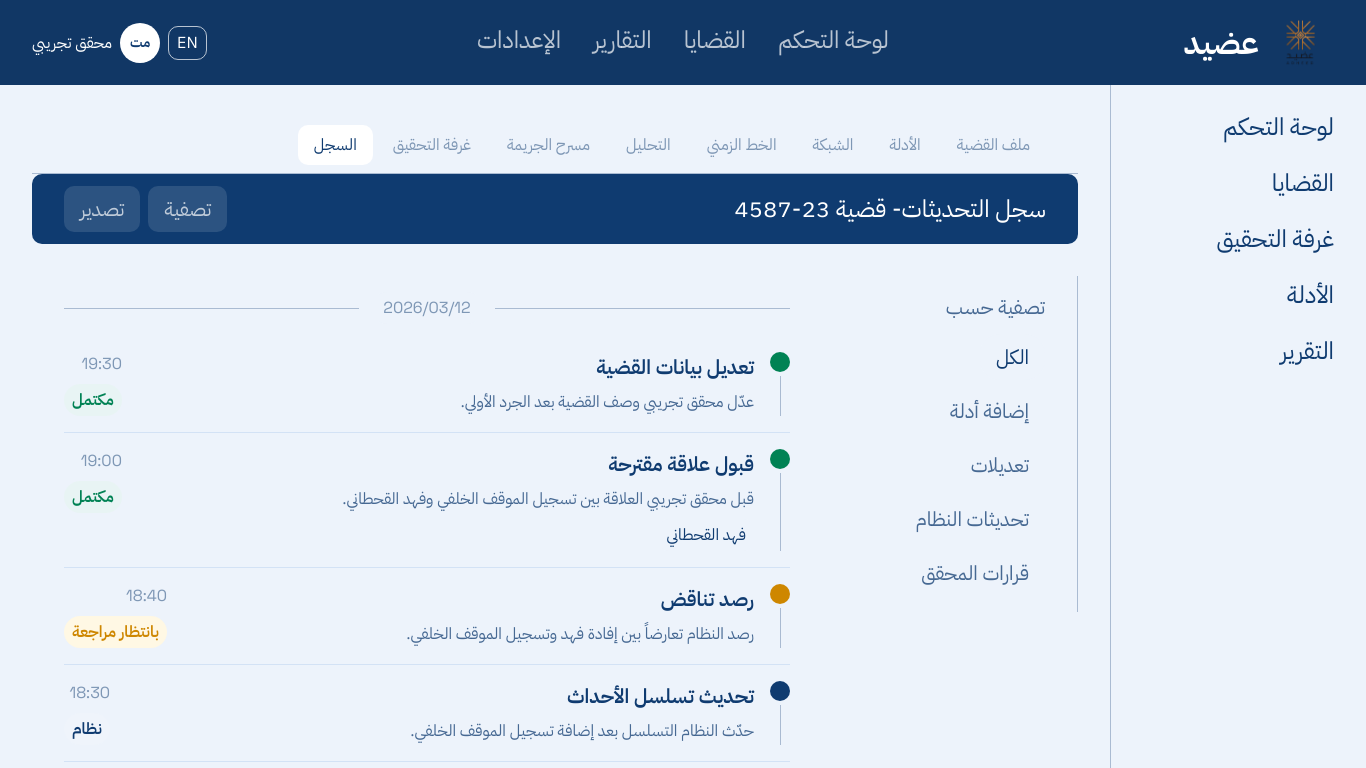
Scenario: activity log › narrows the entries by filter
Expected: the heading "سجل التحديثات- قضية 23-4587" is shown, [734,191,1046,227]
Expected: the heading "تعديل بيانات القضية" is shown, [596,352,754,382]
Click the button "إضافة أدلة".
click(990, 411)  # box [934,388,1045,434]
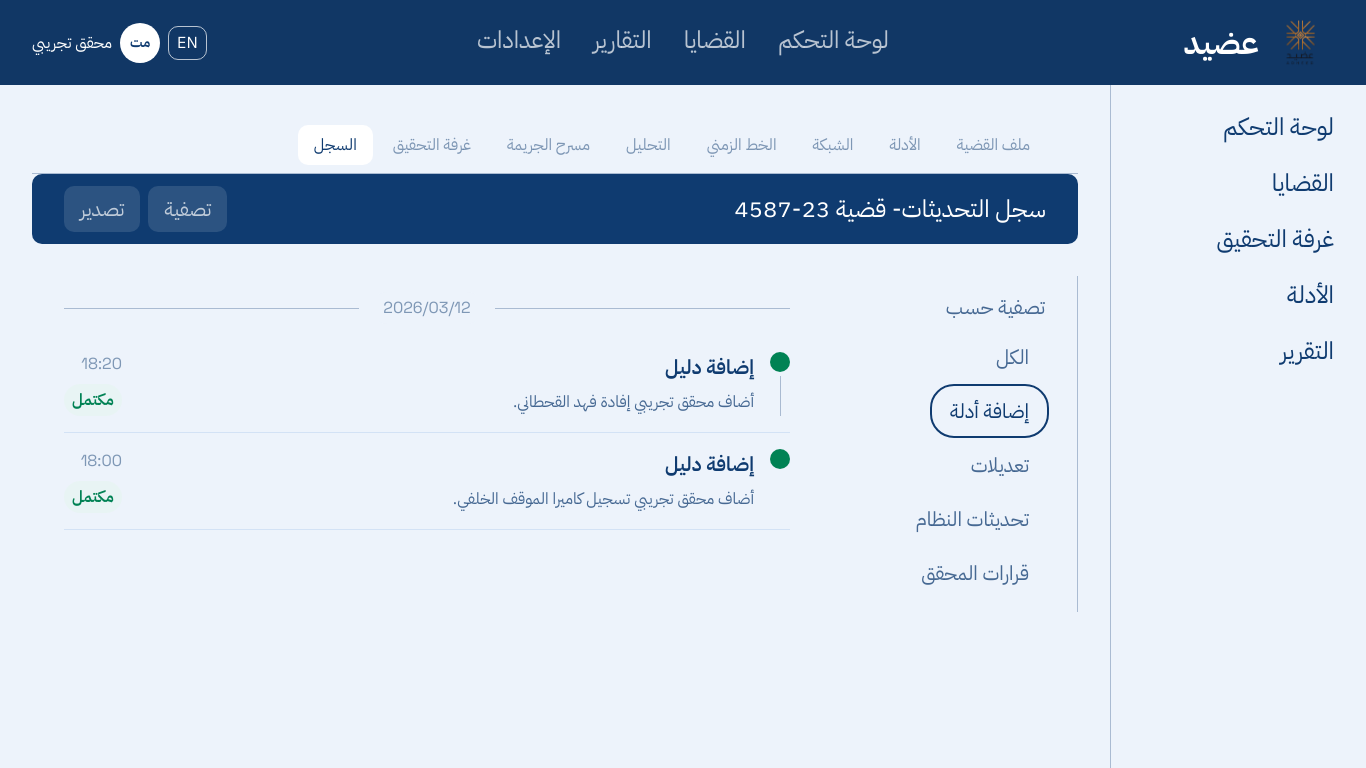
Expected: the number of headings "إضافة دليل" is 2, [665,352,754,382]; [665,449,754,479]
Expected: the heading "تعديل بيانات القضية" is gone
Expected: the heading "تحديث تسلسل الأحداث" is gone
Click the button "تحديثات النظام".
click(972, 519)  # box [900,496,1045,542]
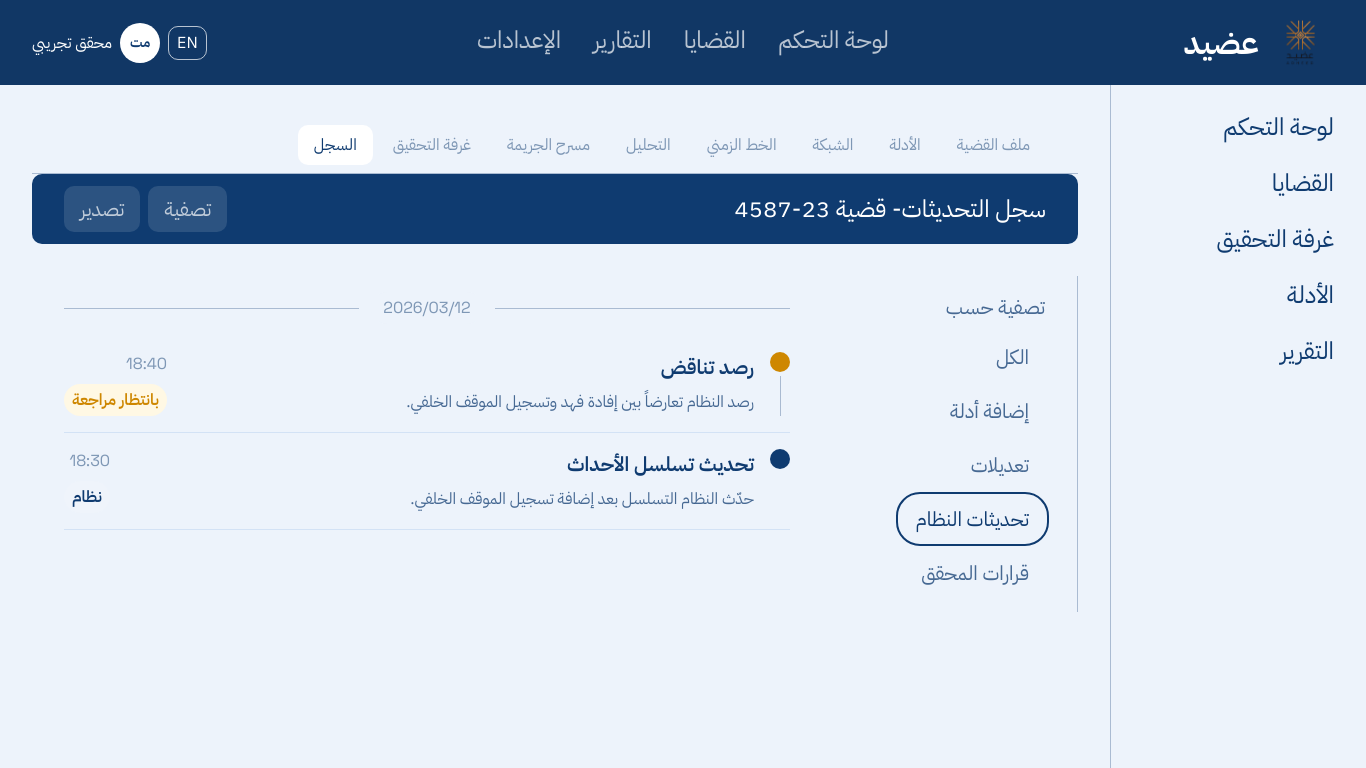
Expected: the heading "تحديث تسلسل الأحداث" is shown, [567,449,754,479]
Expected: the heading "رصد تناقض" is shown, [661,352,754,382]
Expected: the heading "إضافة دليل" is gone
Click the button "قرارات المحقق".
click(975, 573)  # box [905,550,1045,596]
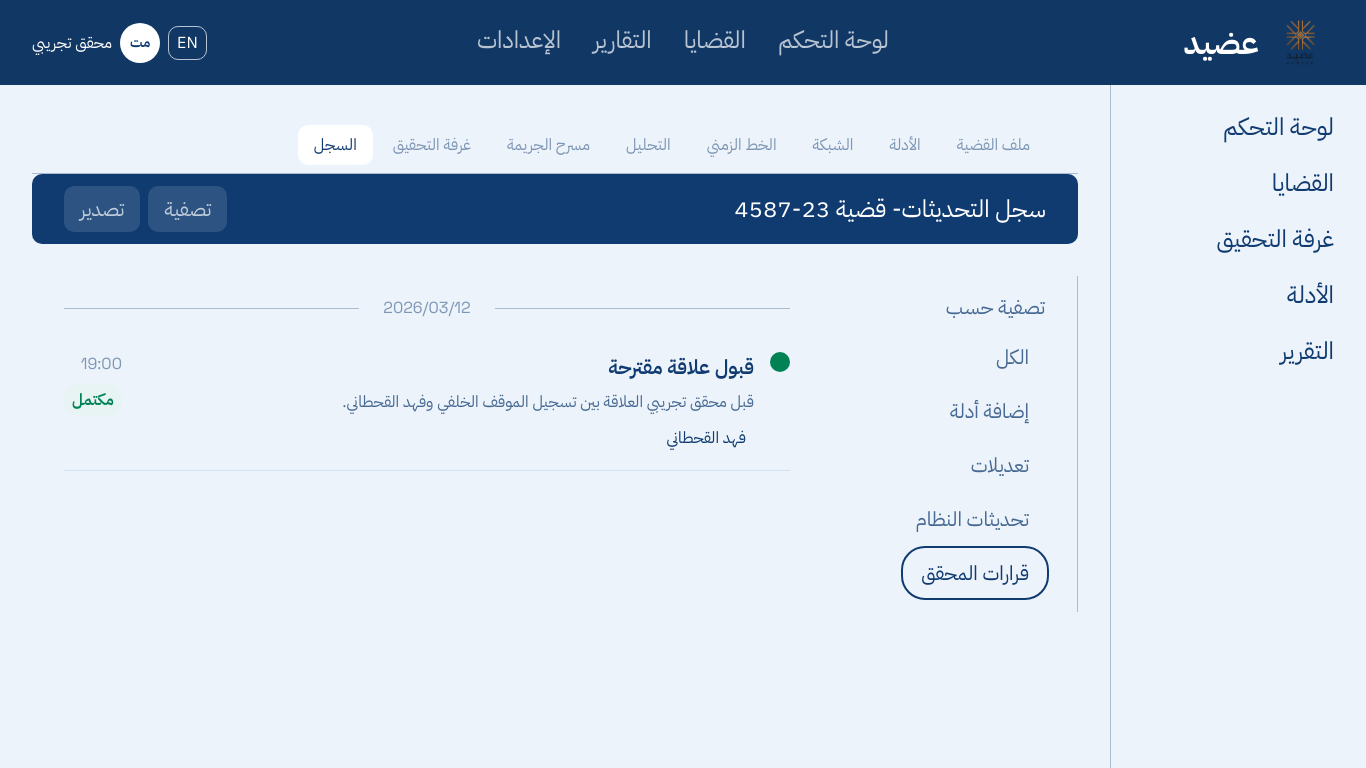
Expected: the heading "قبول علاقة مقترحة" is shown, [608,352,754,382]
Expected: the heading "رصد تناقض" is gone
